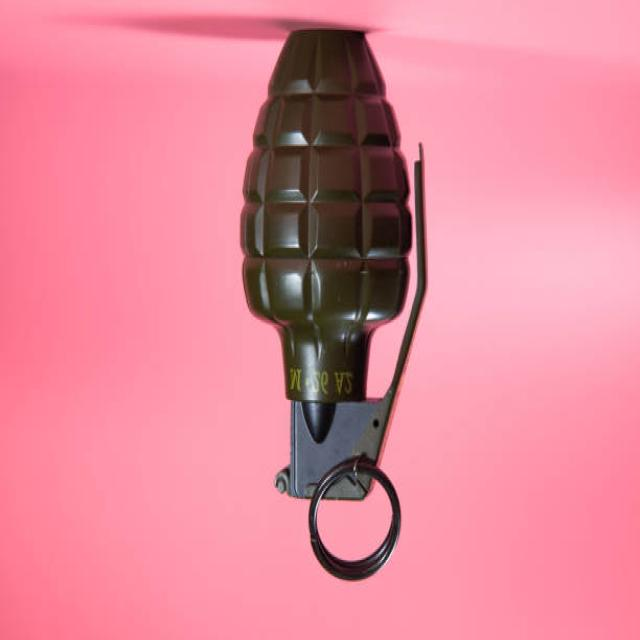grenade: (231, 15, 442, 591)
